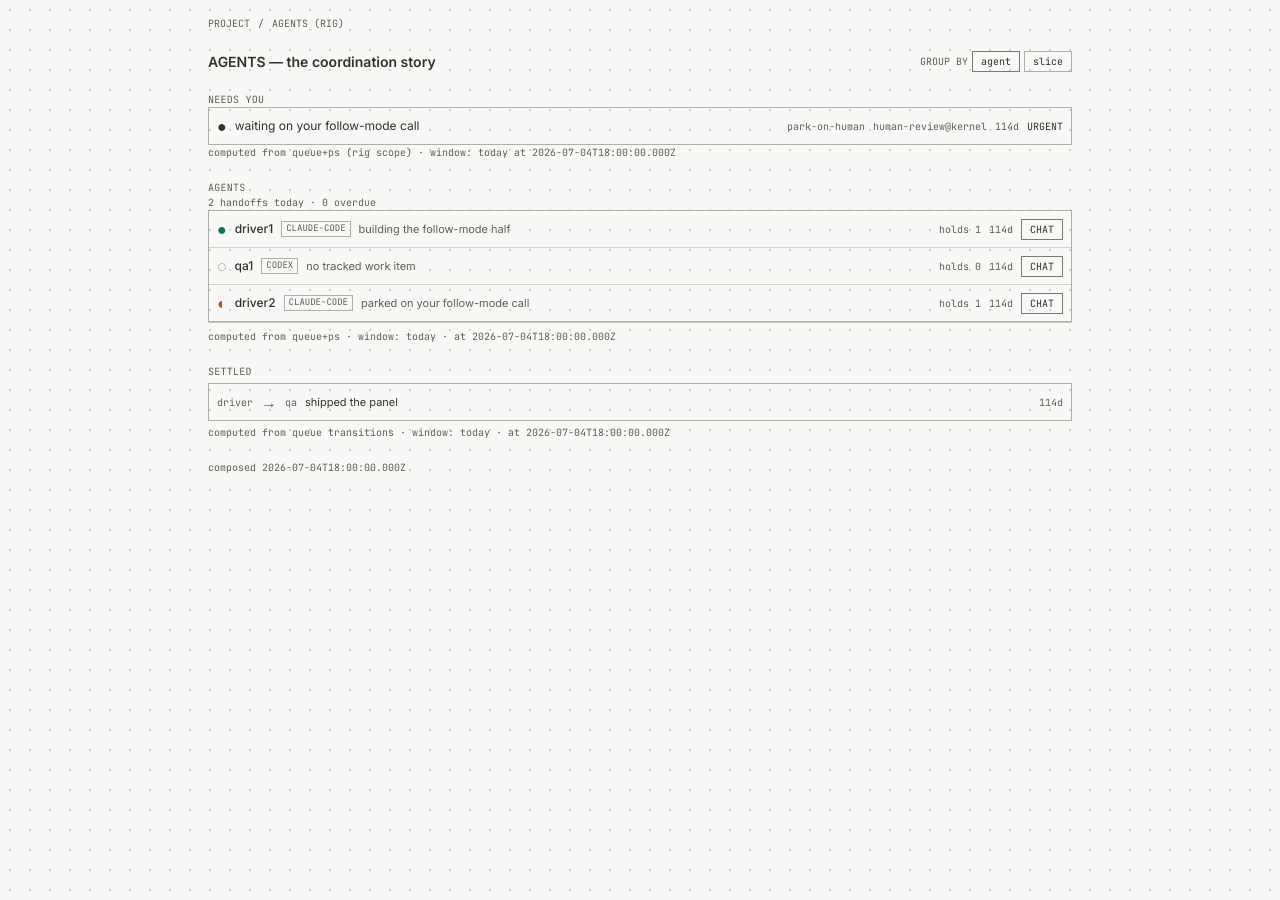
Scenario: RigAgentsPage — the three bands from the composed root › grouping toggle: by-slice groups rows under each slice they hold work on
Expected: the element with test id "rig-agents-page" is shown, [192,0,1088,491]
Click the button with test id "rig-agents-group-slice" at (1048, 62), box [1024,51,1072,72]
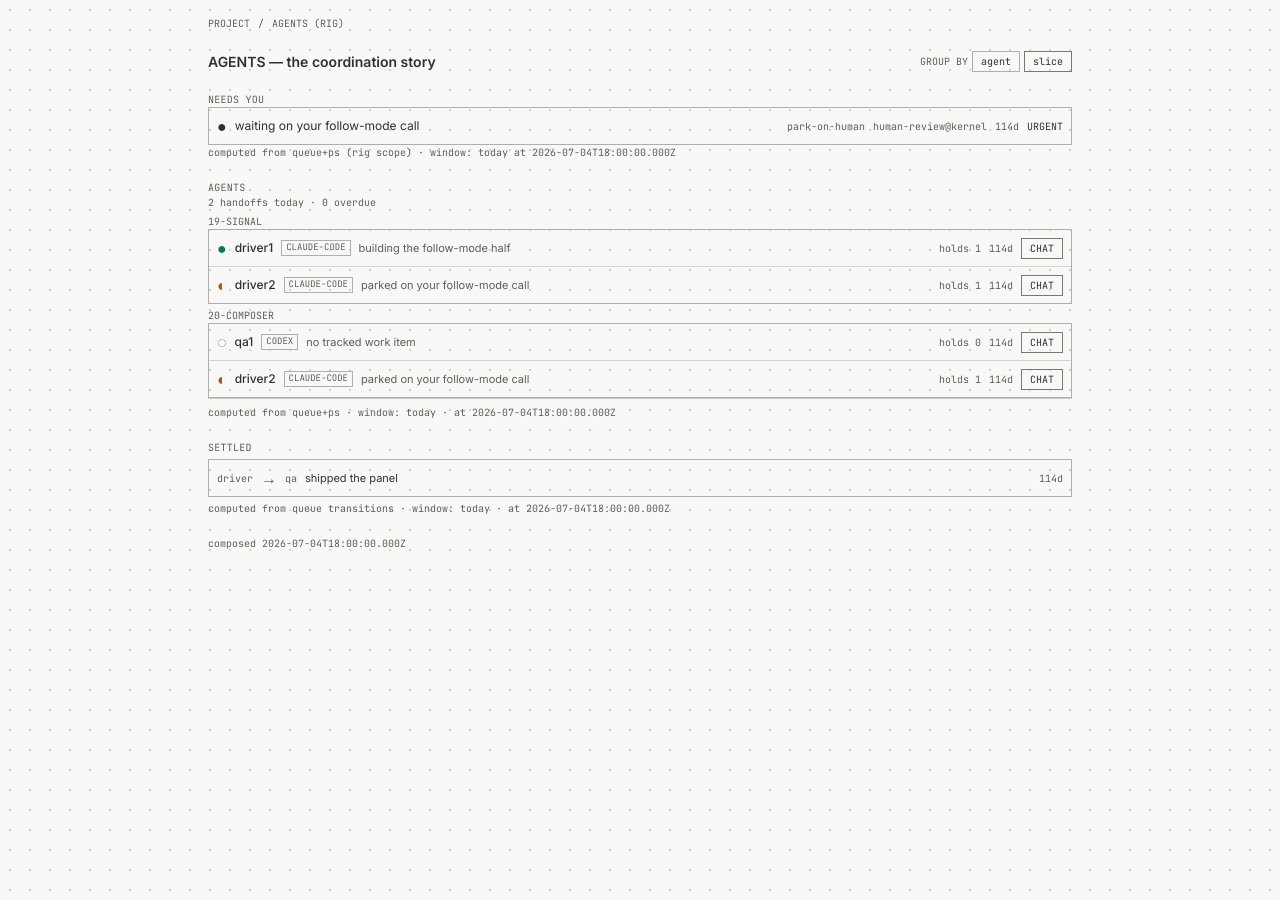
Result: the text "19-signal" is shown at [208,215,262,228]
Result: the text "20-composer" is shown at [208,309,274,322]
